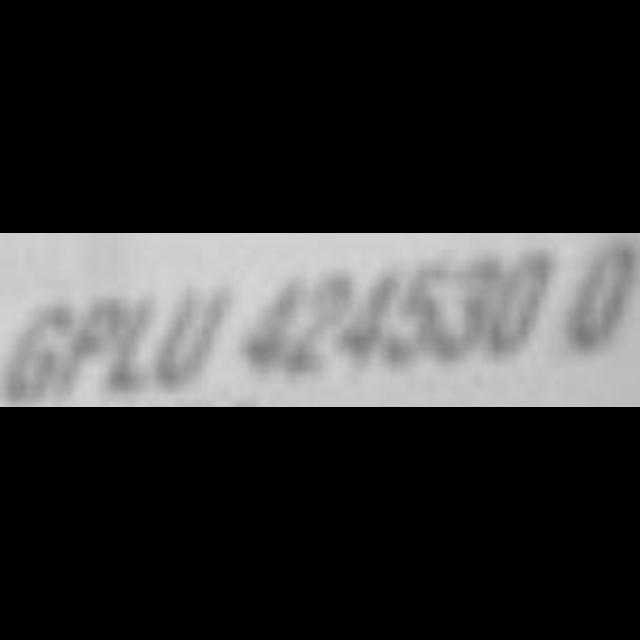0: (566, 233, 640, 357), (486, 245, 562, 358)
2: (286, 269, 359, 379)
3: (436, 251, 506, 367)
4: (241, 270, 315, 384), (330, 264, 402, 376)
5: (381, 259, 454, 373)
f: (52, 292, 130, 404)
g: (0, 296, 80, 406)
l: (106, 286, 170, 406)
u: (152, 283, 238, 407)
